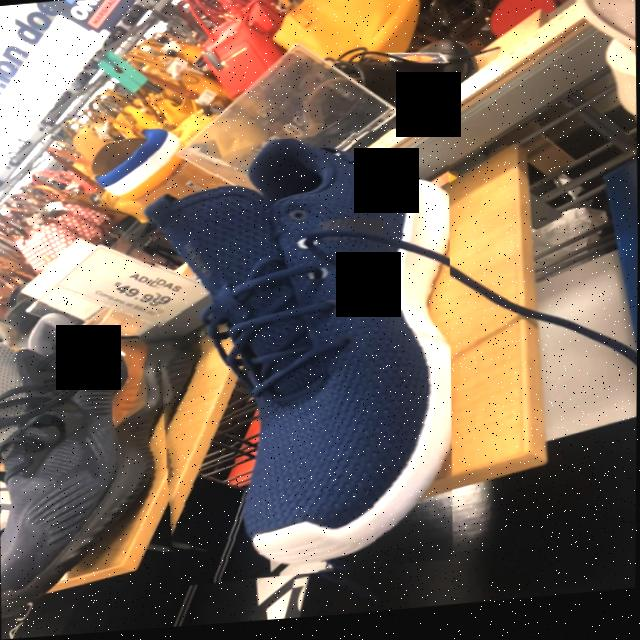shoe: (150, 143, 452, 578)
